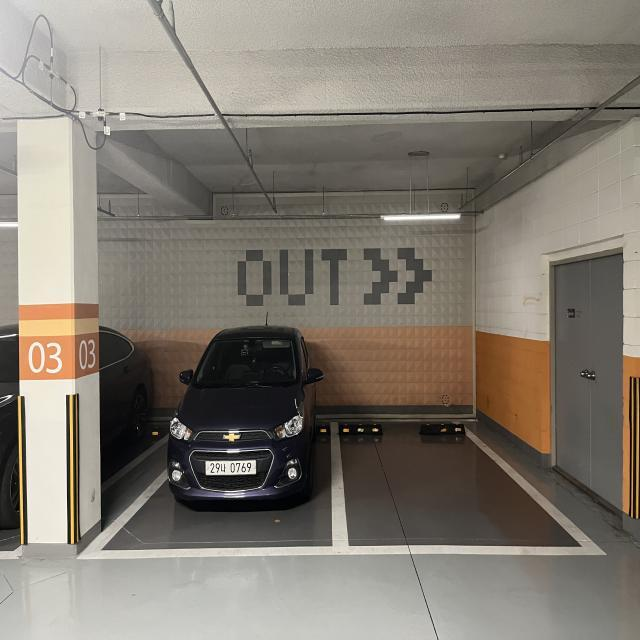empty: (310, 415, 608, 553)
occupied: (164, 314, 326, 524)
